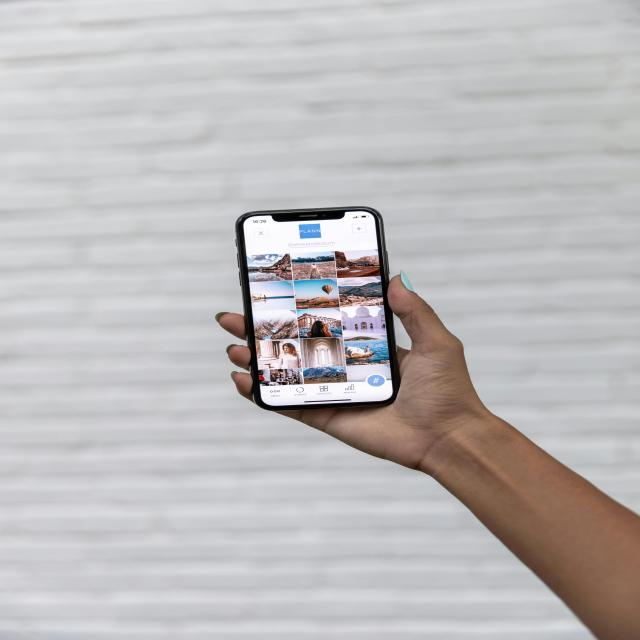Mobile: (217, 196, 413, 413)
